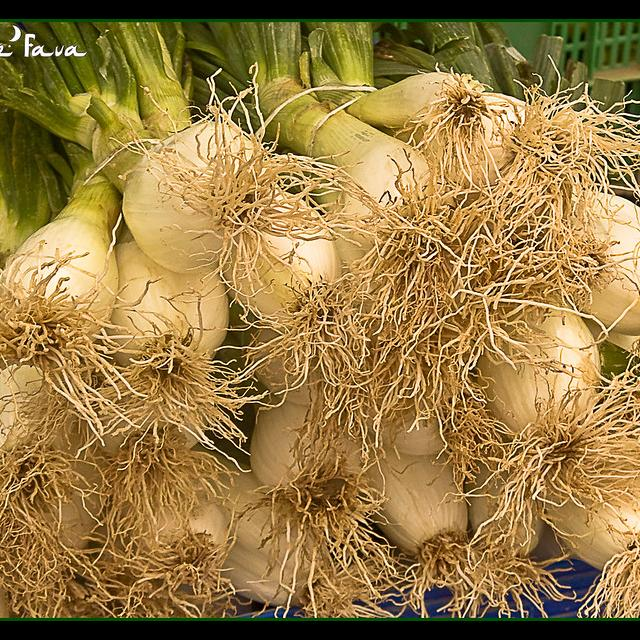green_onion: (0, 21, 640, 619), (0, 44, 430, 606), (309, 22, 527, 186), (366, 407, 467, 566), (480, 311, 602, 432), (587, 193, 640, 350)
